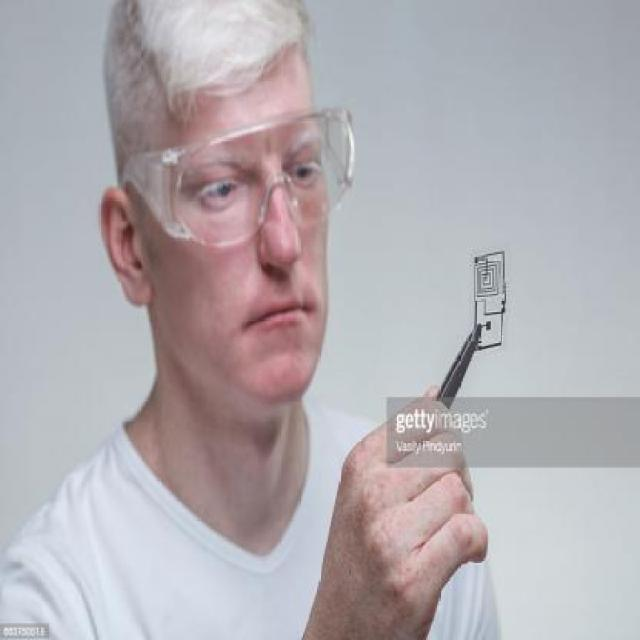face_nomask: (179, 132, 343, 356)
glasses: (120, 99, 358, 243)
hand_glove: (328, 380, 502, 631)
head_nohelmet: (100, 2, 317, 109)
person: (37, 0, 494, 640)
